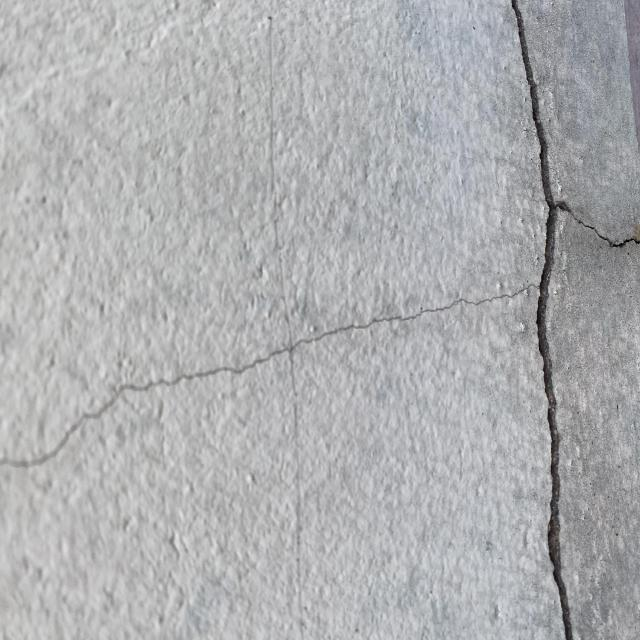SurfaceCrack: (1, 251, 638, 517)
